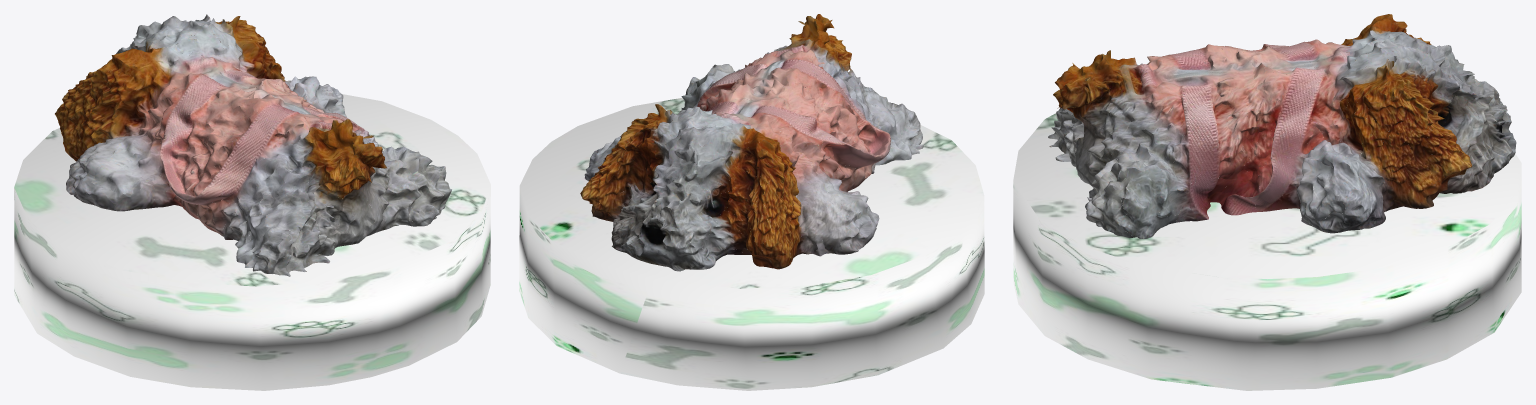
Rendered from asset.glb.
3 views of the same model, side by side, from view 1: azimuth 30°, elevation 25°; view 2: azimuth 150°, elevation 25°; view 3: azimuth 270°, elevation 25° (orthographic). The views are drawn at different scales.
Visible parts, largest first — view 1: Cylinder, Mesh_0.009; view 2: Cylinder, Mesh_0.009; view 3: Cylinder, Mesh_0.009.
Boxes of the visible parts, bbox=[...] form: Cylinder: bbox=[14, 94, 490, 390]; Mesh_0.009: bbox=[55, 14, 451, 276]; Cylinder: bbox=[519, 98, 984, 390]; Mesh_0.009: bbox=[580, 14, 923, 271]; Cylinder: bbox=[1013, 96, 1521, 390]; Mesh_0.009: bbox=[1048, 14, 1516, 238].
Bounding box in the file's own units: 1.73 × 0.9206 × 1.73.
2 materials, 2 textured.
